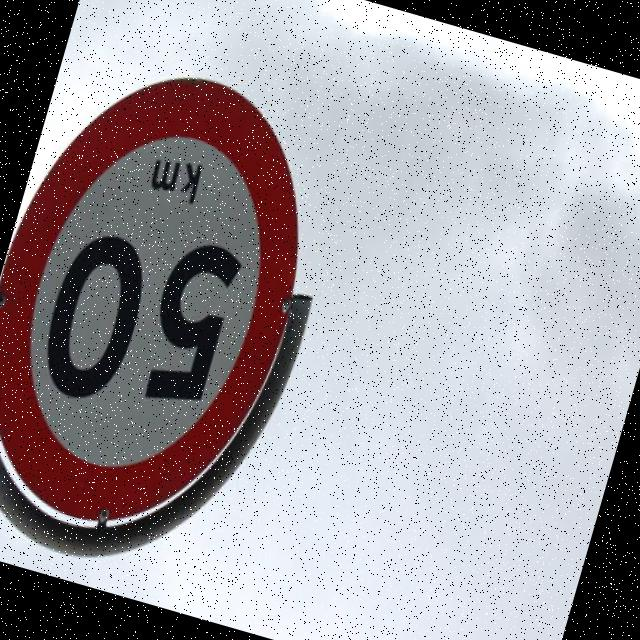speed_limit_50: (0, 37, 350, 578)
